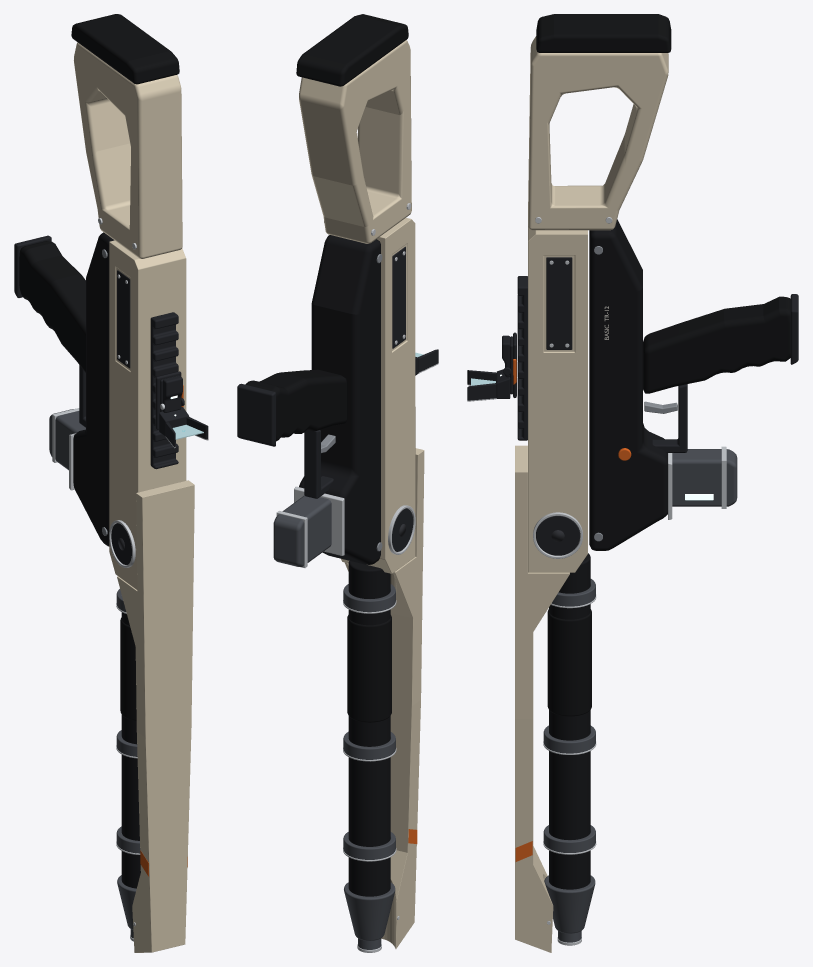
The model's file is BASIC-12-v2.1.fbx.
3 renders of one model, left to right at view 1: azimuth 30°, elevation 25°; view 2: azimuth 150°, elevation 25°; view 3: azimuth 270°, elevation 25°, orthographic. The views are drawn at different scales.
Parts seen in each view (by area): view 1: hood, rear_body, receiver, lower, grip, butt_pad, rail, focus_tube, tube_grip, side_panel_r, energy_cell, sight_body (+5 smaller); view 2: lower, rear_body, hood, receiver, focus_tube, butt_pad, grip, tube_grip, energy_cell, grip_cap, focus_cone, trigger_guard (+6 smaller); view 3: lower, receiver, rear_body, hood, grip, focus_tube, butt_pad, tube_grip, energy_cell, side_panel_l, rail, focus_cone (+4 smaller).
Part boxes in pixels (x1,y1,x2,y2): hood: [117, 480, 194, 952]; rear_body: [73, 42, 182, 258]; receiver: [109, 240, 186, 589]; lower: [73, 232, 114, 546]; grip: [19, 241, 85, 372]; butt_pad: [71, 14, 179, 84]; rail: [150, 312, 178, 469]; focus_tube: [121, 612, 140, 888]; tube_grip: [120, 617, 136, 720]; side_panel_r: [117, 270, 130, 368]; energy_cell: [49, 409, 85, 470]; sight_body: [162, 376, 182, 412]; lower: [299, 235, 380, 564]; rear_body: [299, 40, 411, 243]; hood: [344, 448, 424, 948]; receiver: [341, 218, 415, 573]; focus_tube: [348, 561, 390, 896]; butt_pad: [296, 14, 408, 86]; grip: [245, 369, 347, 441]; tube_grip: [347, 615, 391, 722]; energy_cell: [273, 495, 331, 566]; grip_cap: [237, 383, 275, 446]; focus_cone: [344, 882, 395, 940]; trigger_guard: [304, 430, 333, 498]; lower: [589, 219, 667, 550]; receiver: [528, 227, 587, 572]; rear_body: [528, 36, 668, 230]; hood: [515, 445, 569, 952]; grip: [643, 296, 790, 393]; focus_tube: [549, 553, 590, 889]; butt_pad: [536, 14, 671, 52]; tube_grip: [547, 609, 591, 716]; energy_cell: [672, 449, 737, 506]; side_panel_l: [546, 257, 572, 349]; rail: [517, 276, 527, 440]; focus_cone: [544, 875, 595, 933].
Bounding box in the file's own units: 0.0488 × 0.777 × 0.2534.
